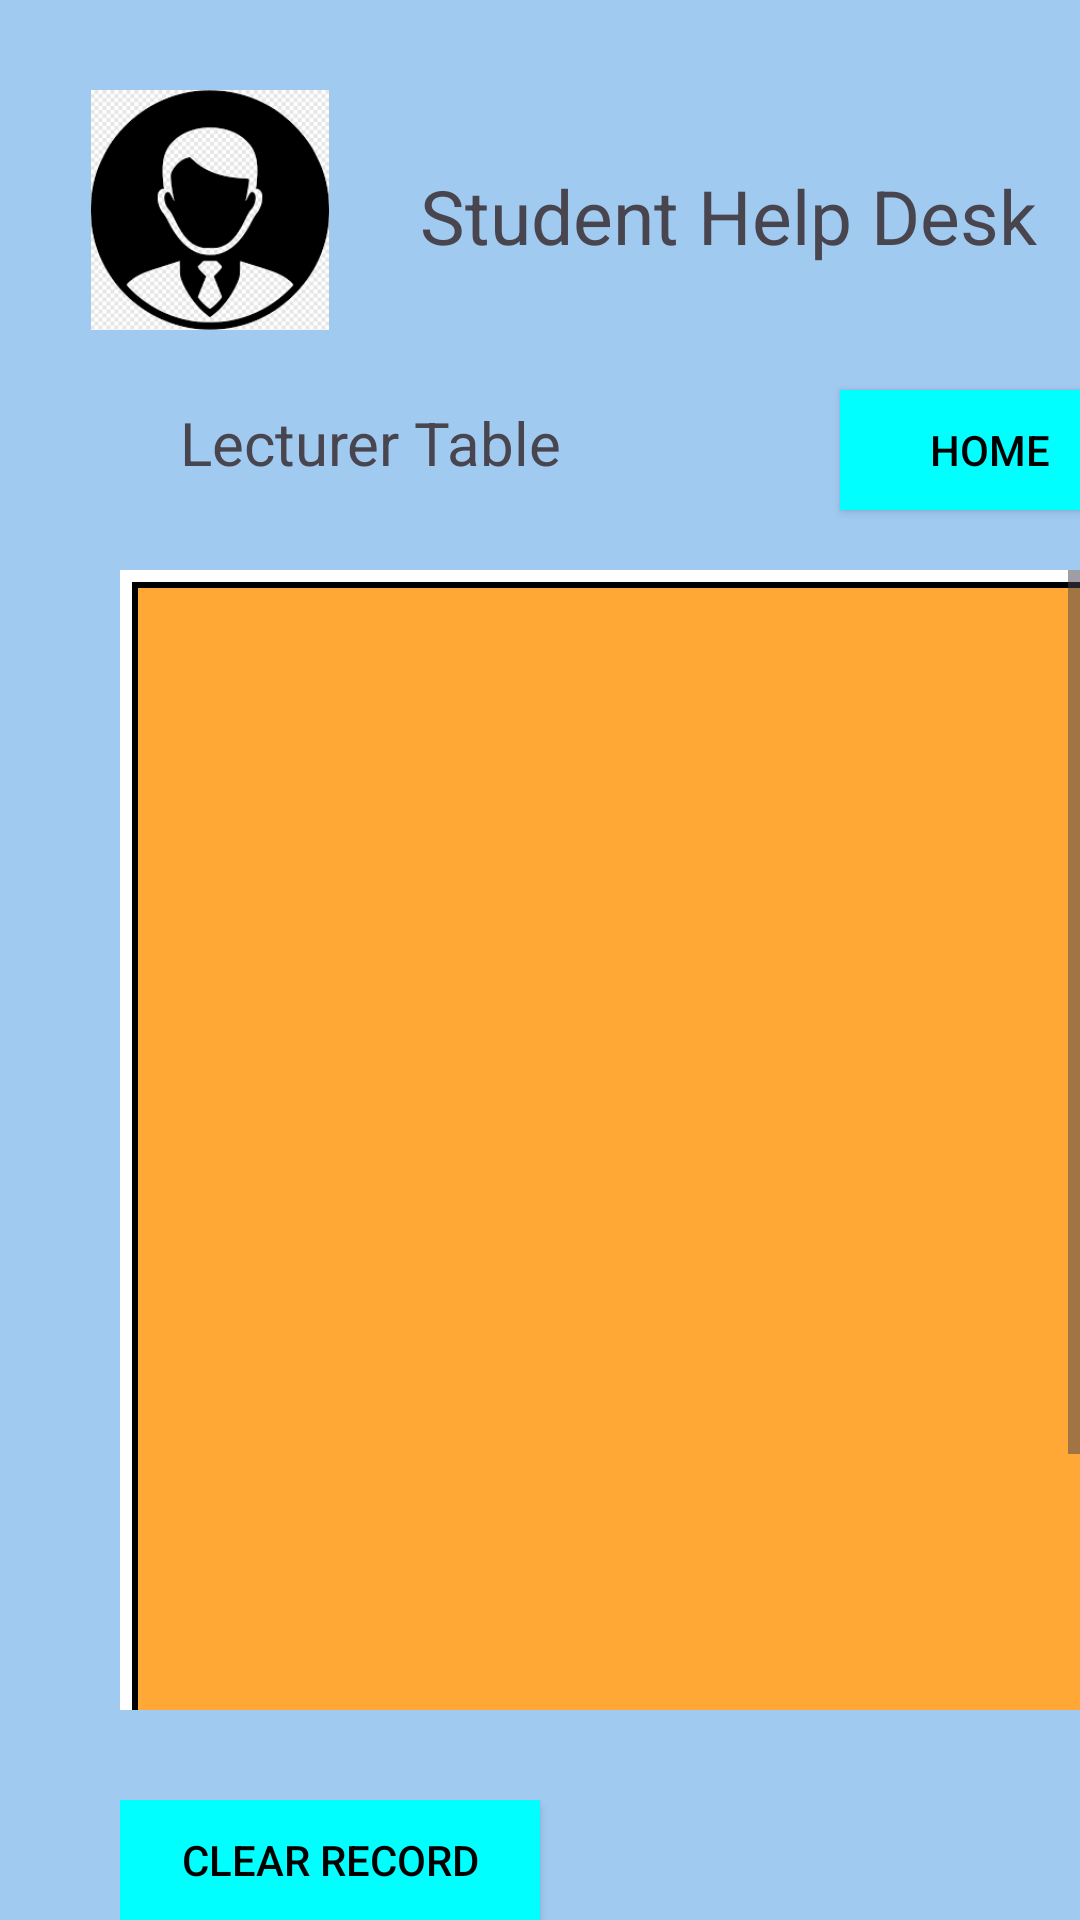

Icon bounding boxes for this 1080w x 1920h phone screenshot, format rect(x1, y1, x2, y2):
profile: rect(91, 90, 329, 330)
